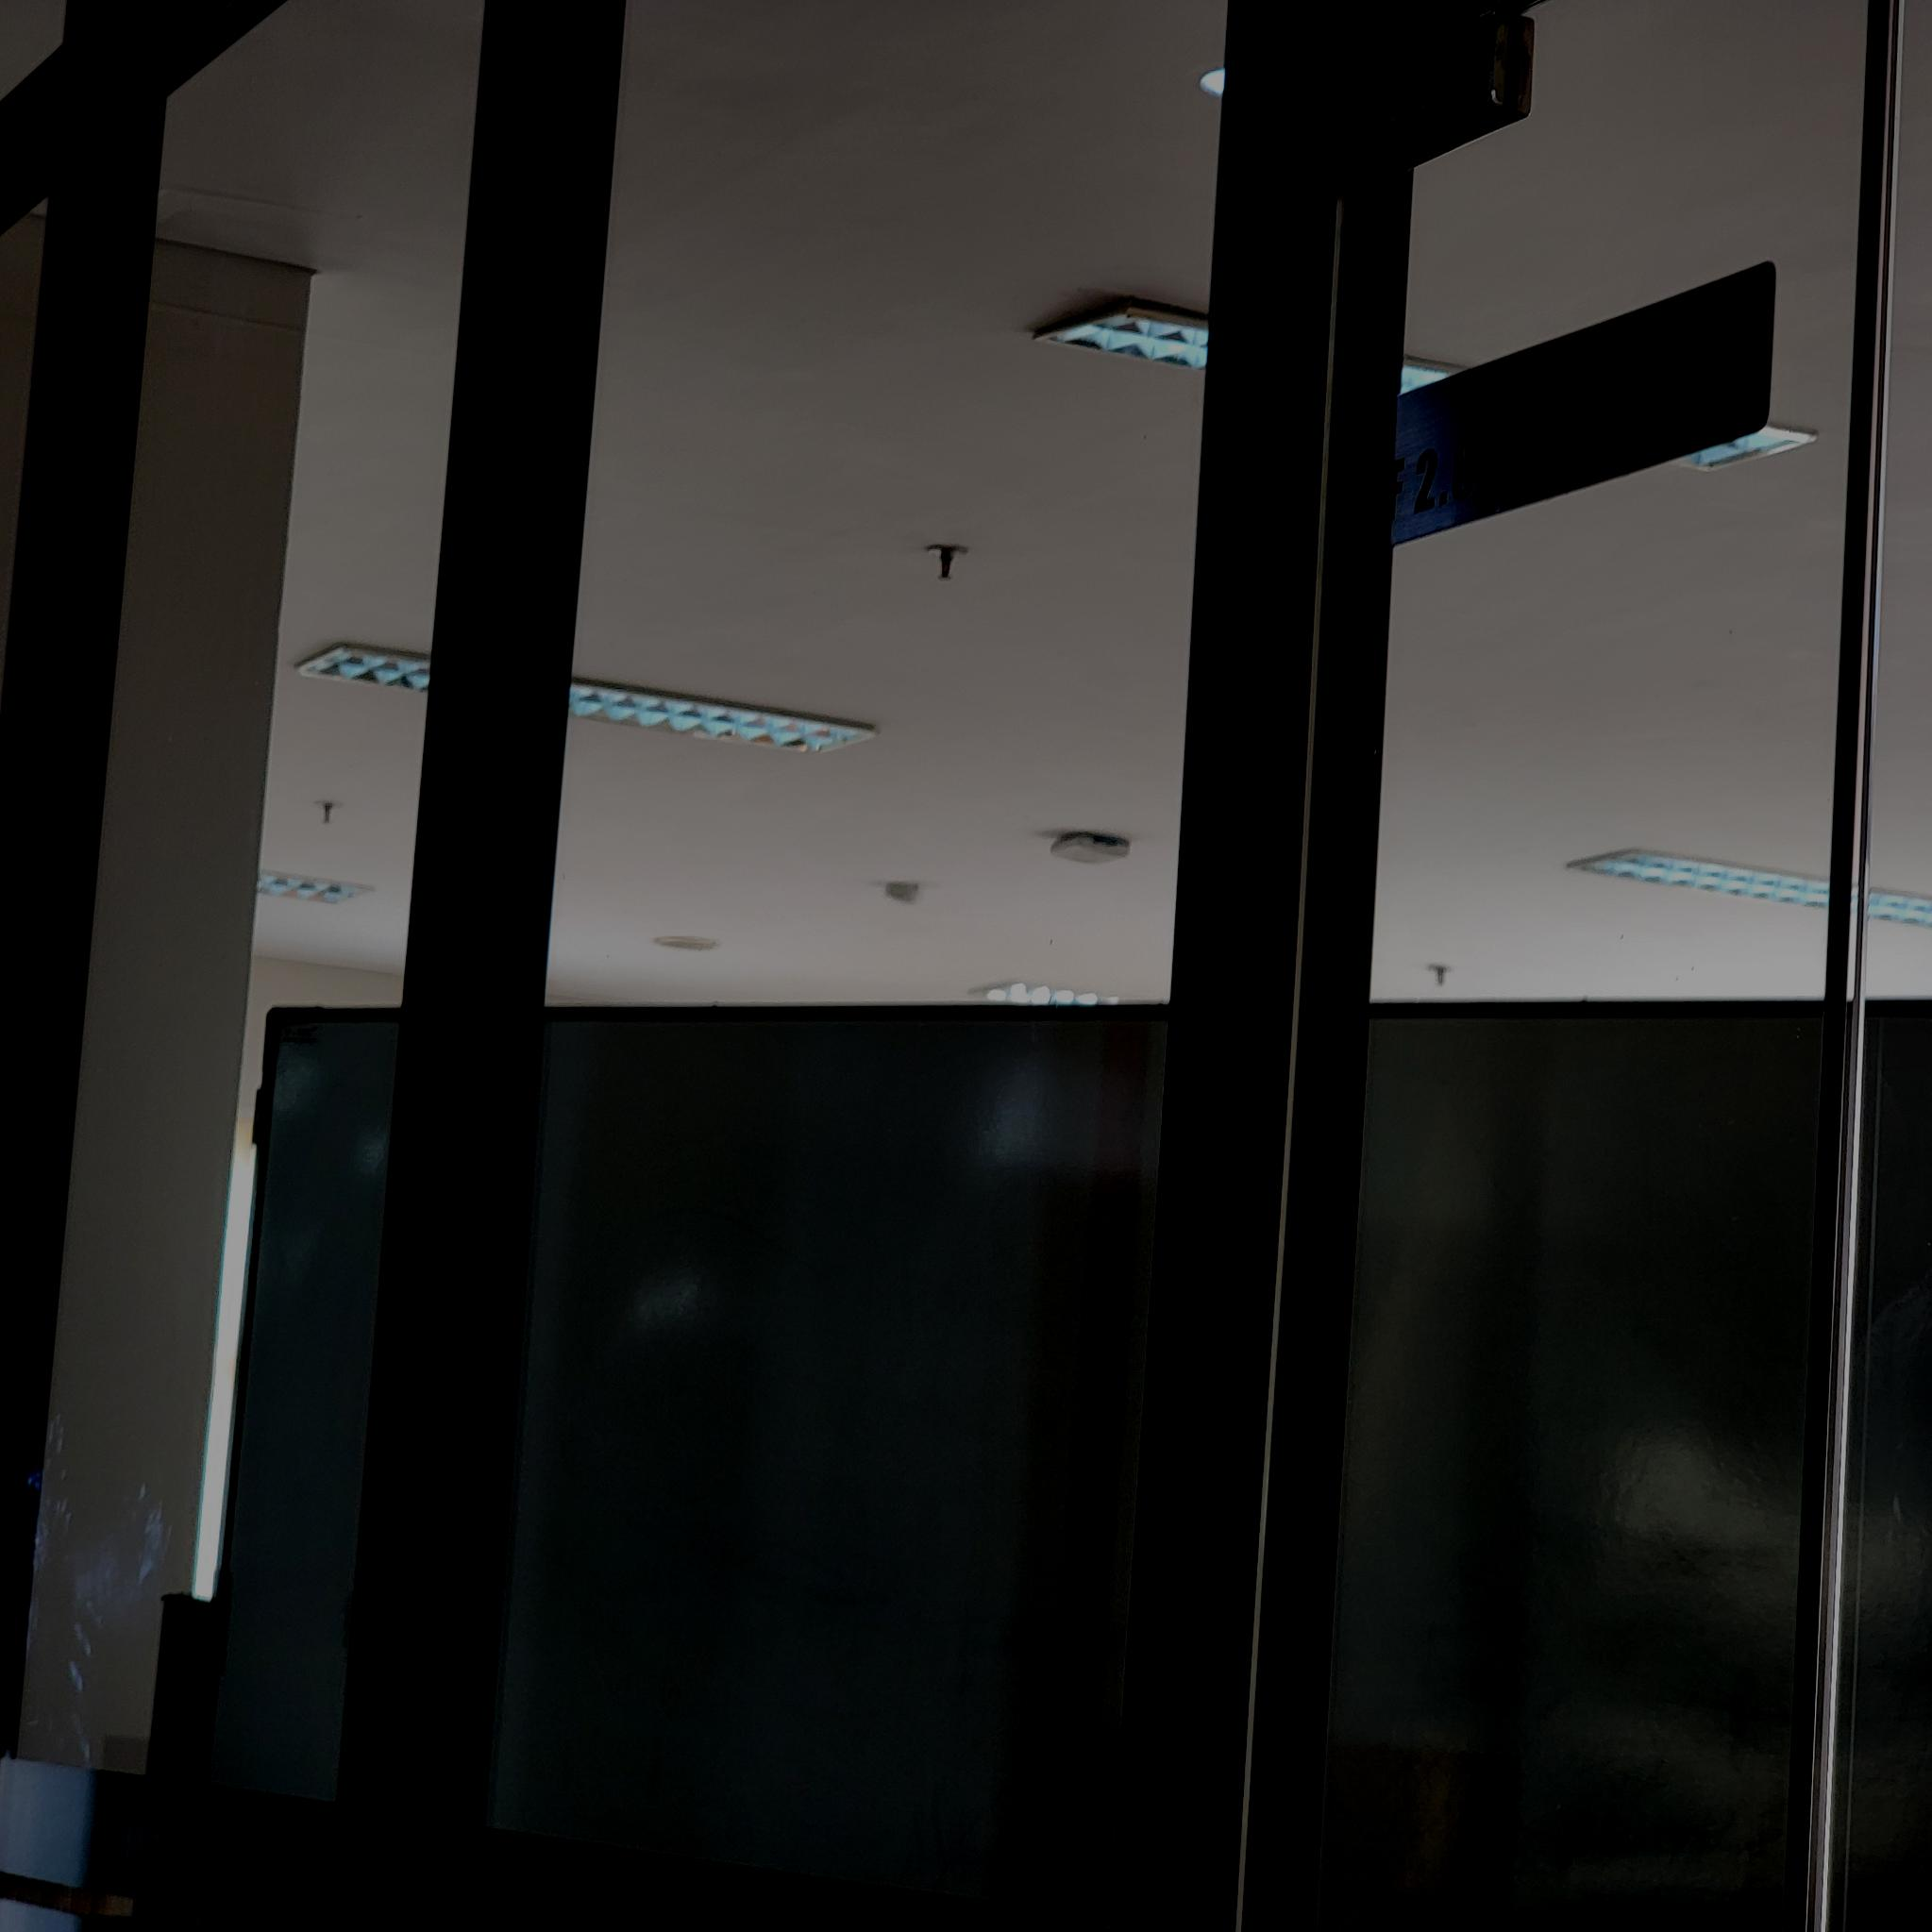plate: (1366, 262, 1778, 556)
